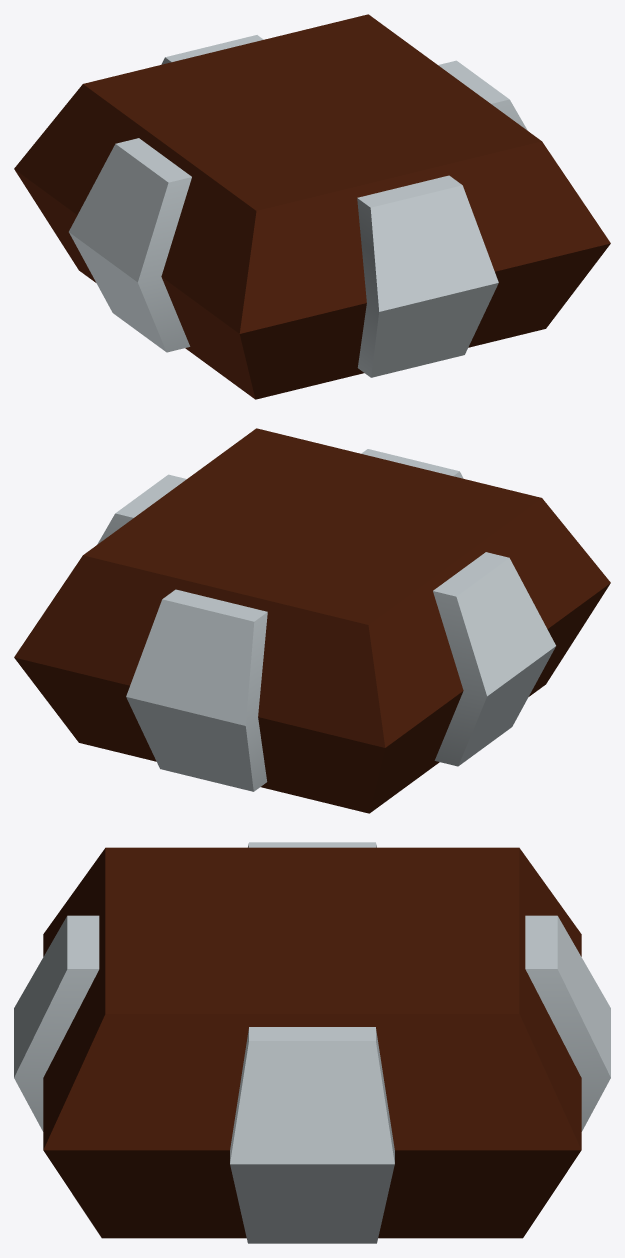
Rendered from Bracer 03.FBX.
The picture shows the model from 3 angles, top to bottom: view 1: azimuth 30°, elevation 25°; view 2: azimuth 150°, elevation 25°; view 3: azimuth 270°, elevation 25°; orthographic projection. The views are drawn at different scales.
Parts seen in each view (by area): view 1: Bracer 03; view 2: Bracer 03; view 3: Bracer 03.
Part boxes in pixels (<box>): Bracer 03: <box>14,14,610,399</box>; Bracer 03: <box>14,428,610,813</box>; Bracer 03: <box>14,842,610,1243</box>.
Bounding box in the file's own units: 22.29 × 9.51 × 23.08.
1 material, 1 textured.
